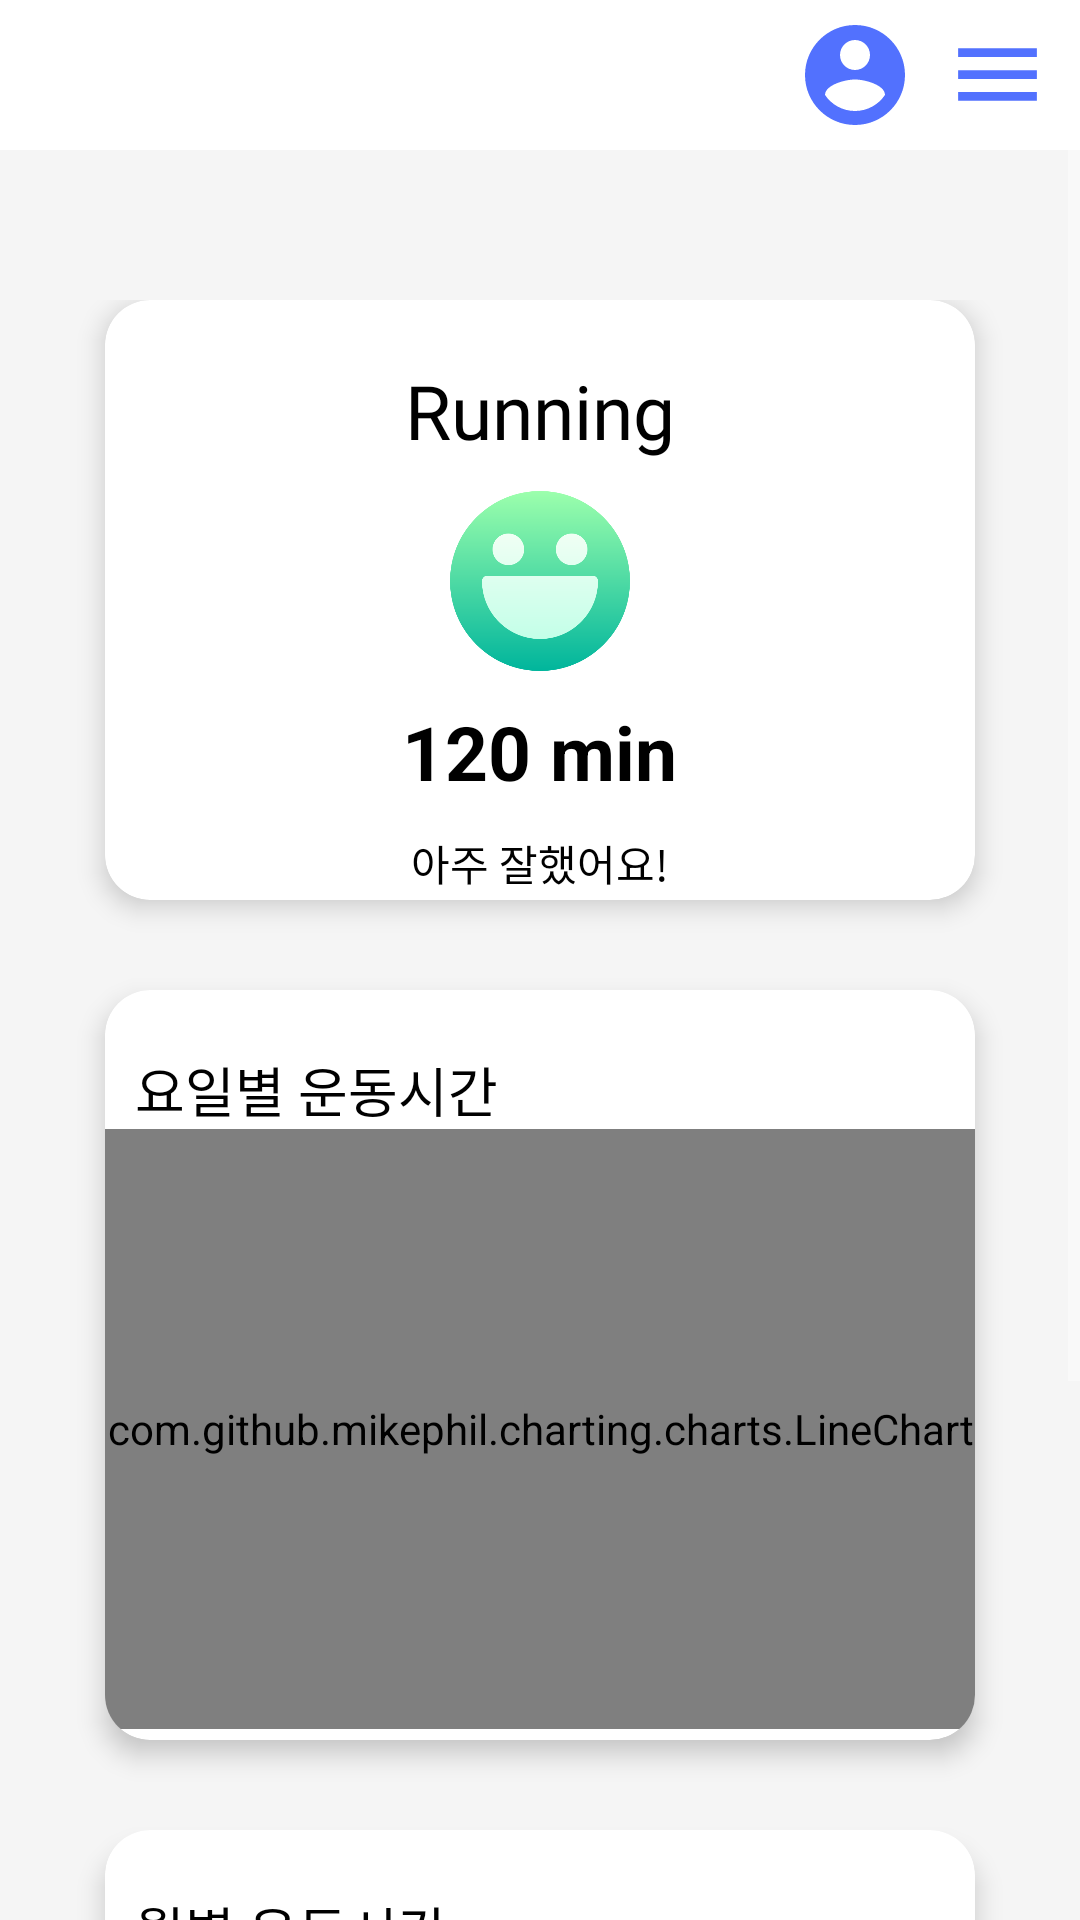

Icon bounding boxes for this 1080 × 1920 phone screenshot, format (x1, y1, x2, y2):
account circle: (805, 25, 905, 125)
good: (450, 491, 630, 671)
menu: (958, 48, 1037, 101)
